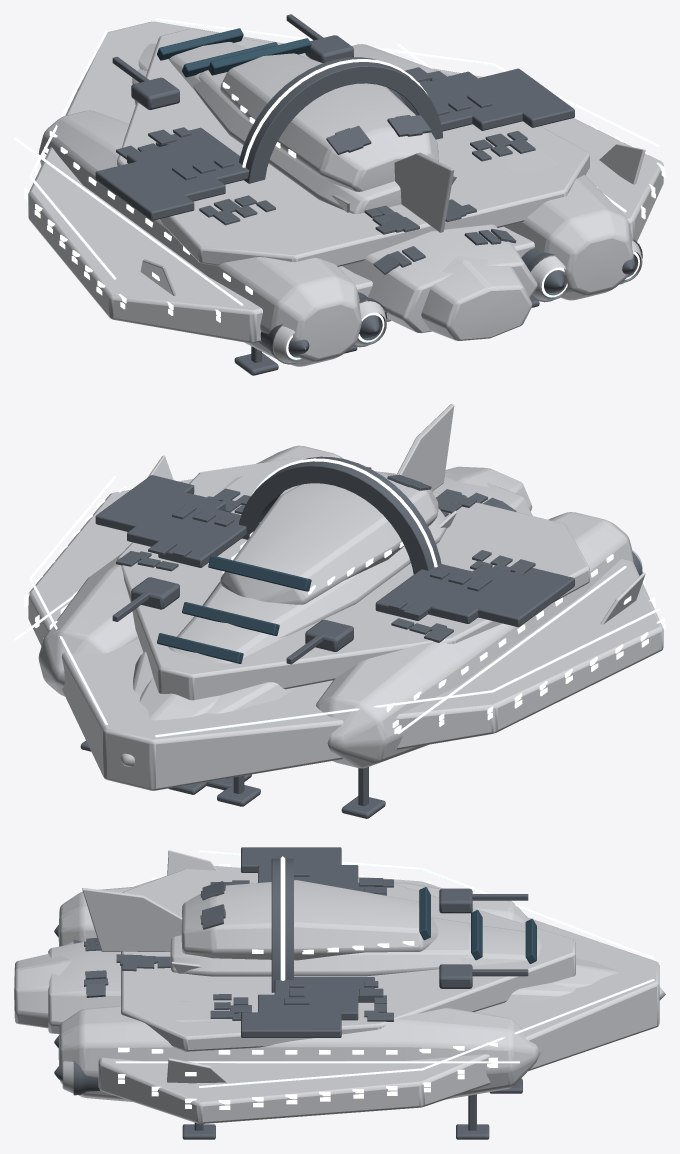
Rendered from ships.glb.
3 renders of one model, top to bottom at view 1: azimuth 30°, elevation 25°; view 2: azimuth 150°, elevation 25°; view 3: azimuth 270°, elevation 25°, orthographic. The views are drawn at different scales.
Parts seen in each view (by area): view 1: ship3_hull, ship4_hull, ship3_dark, ship2_hull, ship4_dark, ship4_neon, ship3_neon, ship0_hull, ship4_light, ship2_dark, ship3_glass, ship4_glass (+2 smaller); view 2: ship3_hull, ship4_hull, ship3_dark, ship2_hull, ship4_dark, ship3_neon, ship4_neon, ship4_light, ship3_glass, ship2_glass, ship3_gear.001, ship2_gear.001 (+2 smaller); view 3: ship3_hull, ship4_hull, ship2_hull, ship3_dark, ship4_dark, ship3_neon, ship4_light, ship4_neon, ship0_hull, ship3_gear.001, ship2_dark, ship3_glass (+2 smaller).
Part boxes in pixels (box(x1,y1,x2,y2)): ship3_hull: box(28, 21, 663, 343); ship4_hull: box(38, 42, 642, 366); ship3_dark: box(95, 14, 574, 321); ship2_hull: box(132, 69, 537, 333); ship4_dark: box(116, 57, 642, 364); ship4_neon: box(14, 44, 639, 359); ship3_neon: box(29, 18, 659, 279); ship0_hull: box(140, 144, 645, 295); ship4_light: box(24, 51, 665, 322); ship2_dark: box(373, 228, 516, 274); ship3_glass: box(208, 38, 311, 75); ship4_glass: box(157, 28, 243, 60); ship3_hull: box(28, 458, 663, 790); ship4_hull: box(38, 445, 642, 768); ship3_dark: box(95, 475, 574, 664); ship2_hull: box(133, 404, 532, 713); ship4_dark: box(116, 456, 642, 642); ship3_neon: box(29, 476, 659, 737); ship4_neon: box(14, 458, 626, 733); ship4_light: box(24, 486, 665, 734); ship3_glass: box(208, 555, 311, 591); ship2_glass: box(182, 602, 279, 635); ship3_gear.001: box(80, 741, 385, 818); ship2_gear.001: box(168, 776, 260, 806); ship3_hull: box(98, 866, 659, 1124); ship4_hull: box(14, 882, 665, 1101); ship2_hull: box(48, 888, 577, 1034); ship3_dark: box(131, 847, 528, 1037); ship4_dark: box(54, 858, 393, 1095); ship3_neon: box(199, 850, 654, 1087); ship4_light: box(118, 864, 497, 1109); ship4_neon: box(115, 856, 519, 1063); ship0_hull: box(165, 850, 227, 1083); ship3_gear.001: box(182, 1094, 489, 1139); ship2_dark: box(84, 938, 108, 997); ship3_glass: box(419, 887, 430, 940).
Bounding box in the file's own units: 20.35 × 8.4 × 23.37.
